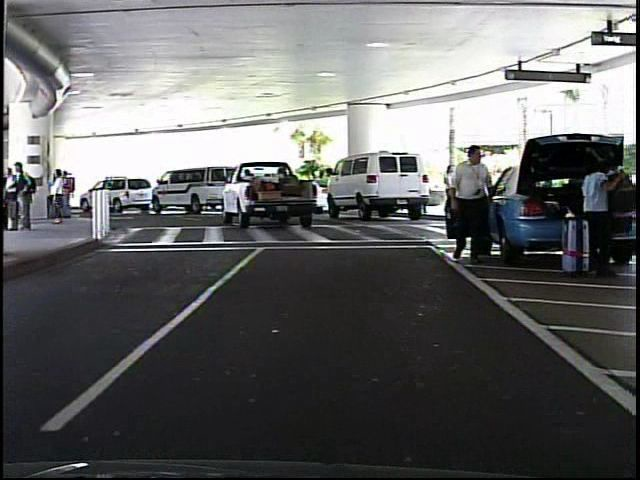person: (436, 140, 490, 267), (570, 157, 621, 276)
